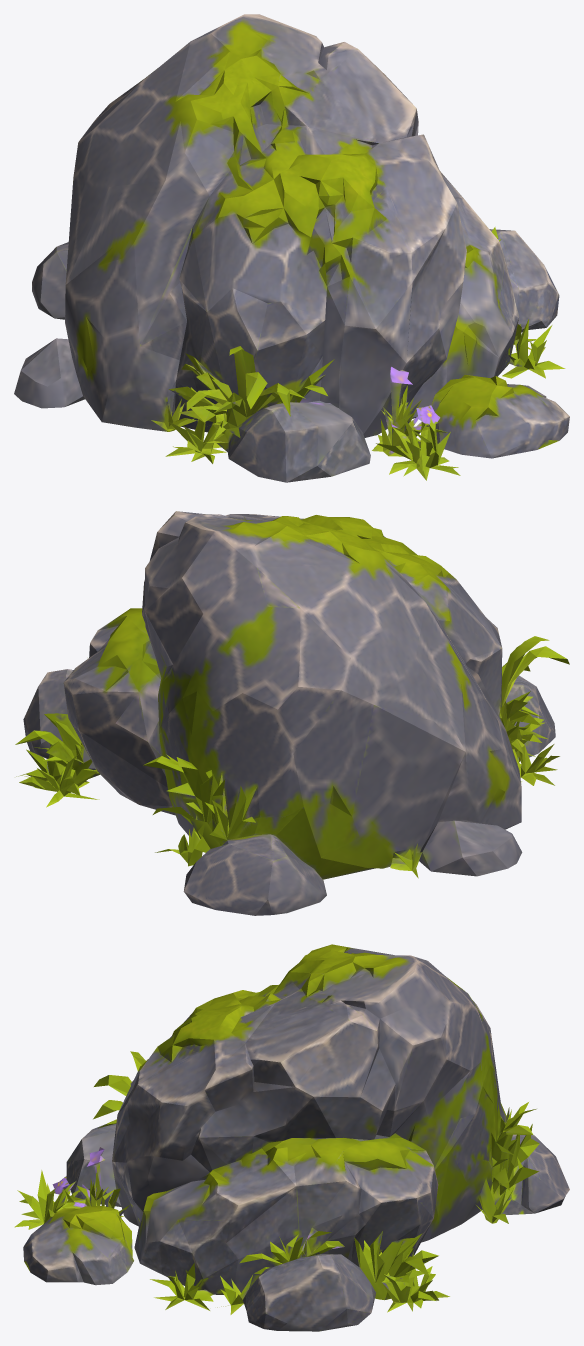
The model's file is rock.glb.
3 renders of one model, top to bottom at view 1: azimuth 30°, elevation 25°; view 2: azimuth 150°, elevation 25°; view 3: azimuth 270°, elevation 25°, orthographic. The views are drawn at different scales.
Visible parts, largest first — view 1: output_unwrapped; view 2: output_unwrapped; view 3: output_unwrapped.
Part boxes in pixels (left/top/right/bottom): output_unwrapped: left=14, top=14, right=569, bottom=482; output_unwrapped: left=15, top=511, right=569, bottom=915; output_unwrapped: left=14, top=944, right=569, bottom=1331.
Size of the model in its own units: 1.76 by 1.01 by 1.9.
Materials: 1 (1 with a texture image).
